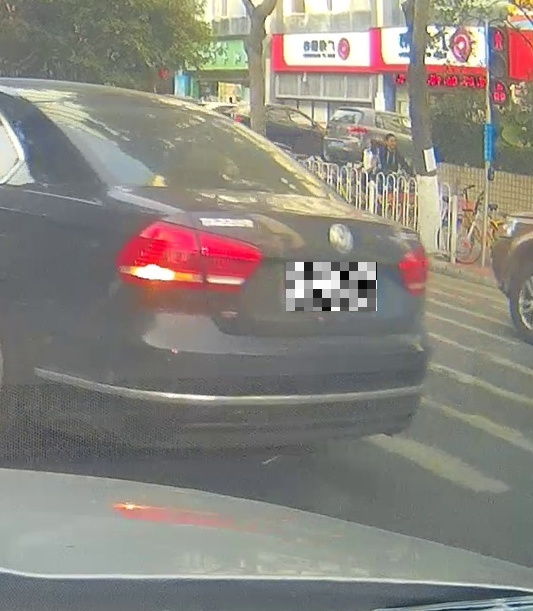L_light: (114, 219, 263, 293)
R_light: (397, 243, 429, 297)
T_light: (126, 103, 177, 113)
day-left: (34, 80, 431, 452)
plate_1: (286, 262, 377, 311)
